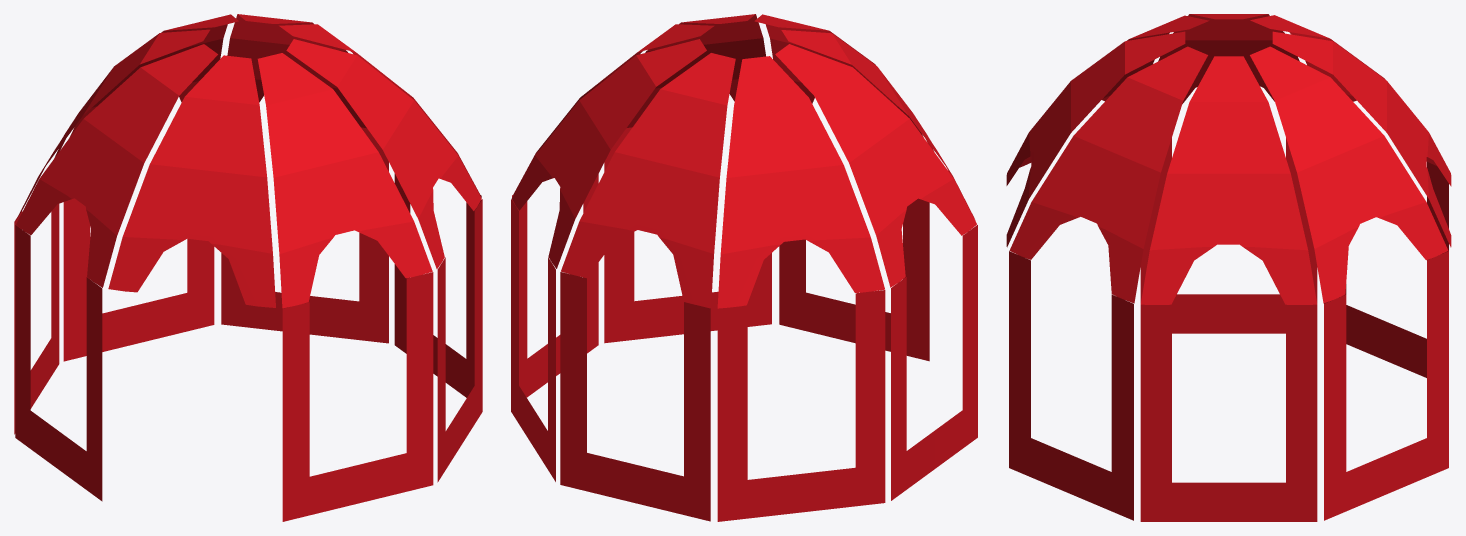
File: wallpaper.glb
3 renders of one model, left to right at view 1: azimuth 30°, elevation 25°; view 2: azimuth 150°, elevation 25°; view 3: azimuth 270°, elevation 25°, orthographic.
Parts seen in each view (by area): view 1: wallpaper; view 2: wallpaper; view 3: wallpaper.
Boxes of the visible parts, x1,y1,x2,y2 form: wallpaper: [14, 14, 482, 521]; wallpaper: [511, 14, 977, 521]; wallpaper: [1006, 14, 1451, 521].
Size of the model in its own units: 1.93 by 1.86 by 1.93.
